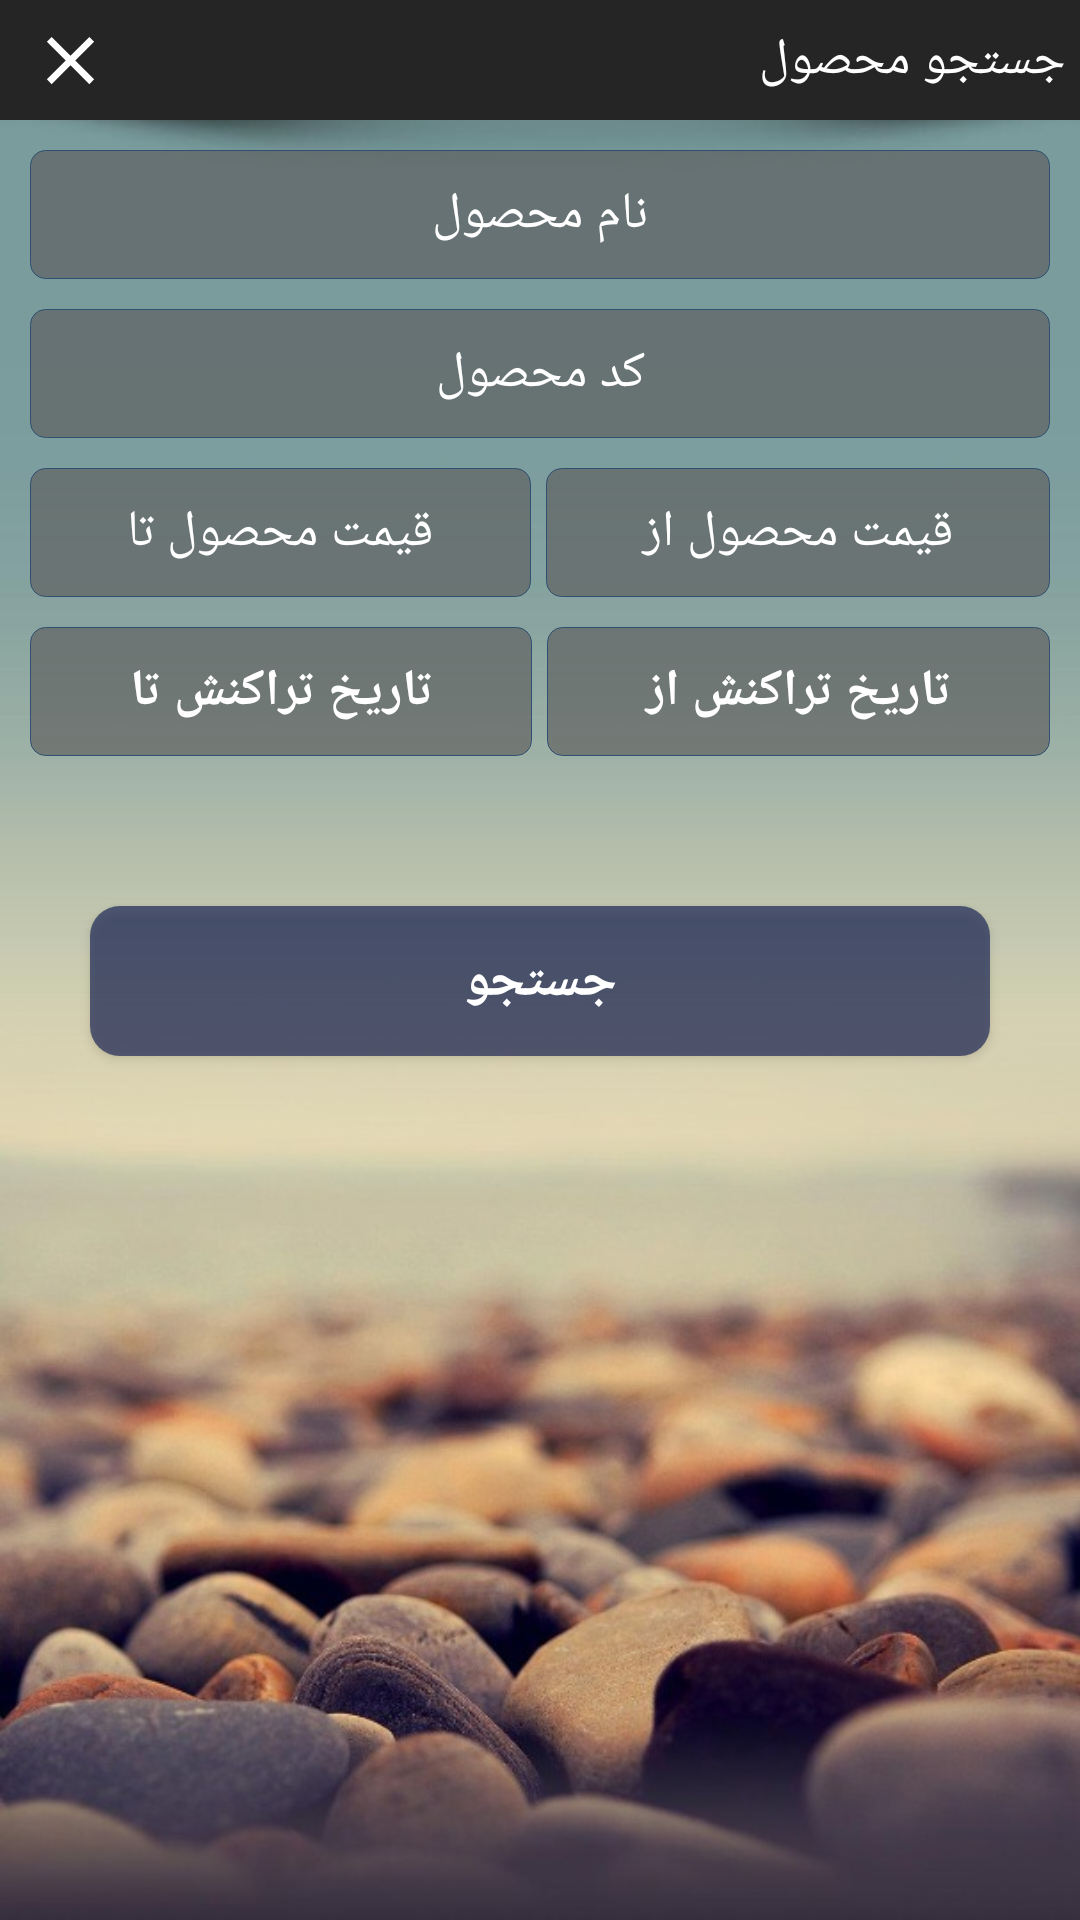

Named icons in this screenshot (1080px x 1920px) and their bounding boxes, (x1, y1, x2, y2):
close dialog: (47, 37, 94, 84)
